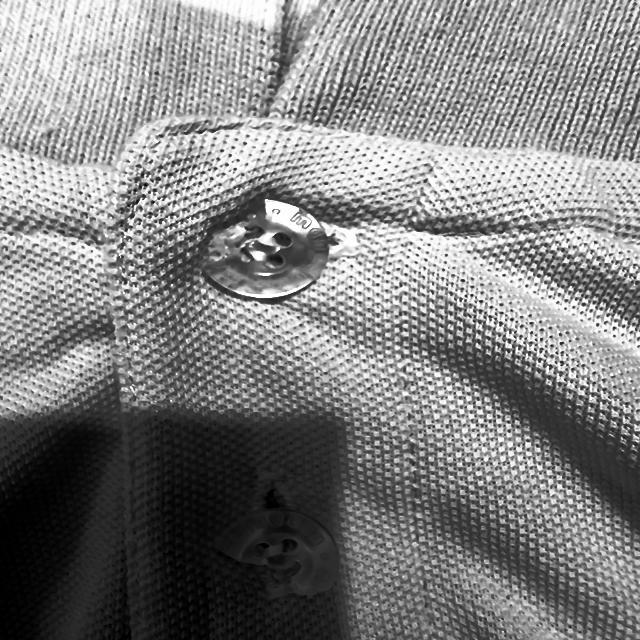Broken_button: (197, 492, 354, 618)
